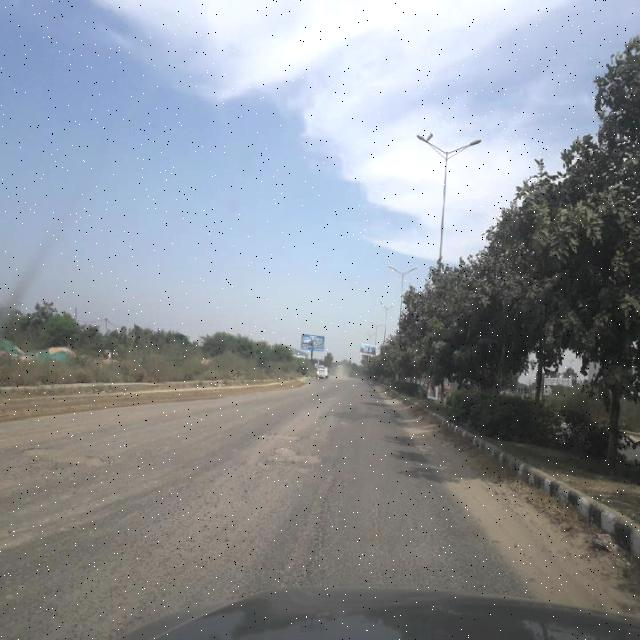D00: (363, 468, 392, 582)
D20: (402, 462, 488, 590), (275, 459, 349, 584)
D40: (9, 425, 109, 479), (260, 424, 306, 447)
